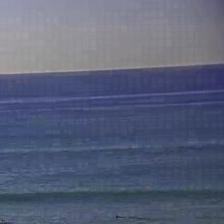surfer: (115, 215, 124, 218), (0, 220, 7, 223)
